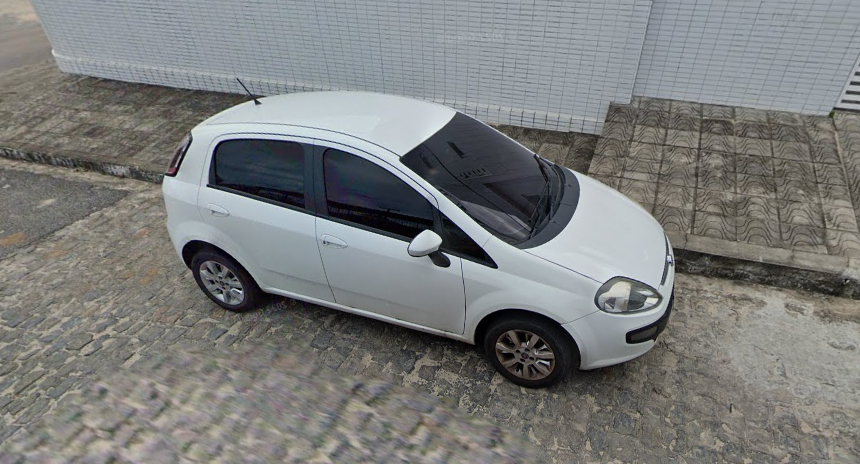car: (153, 66, 682, 391)
